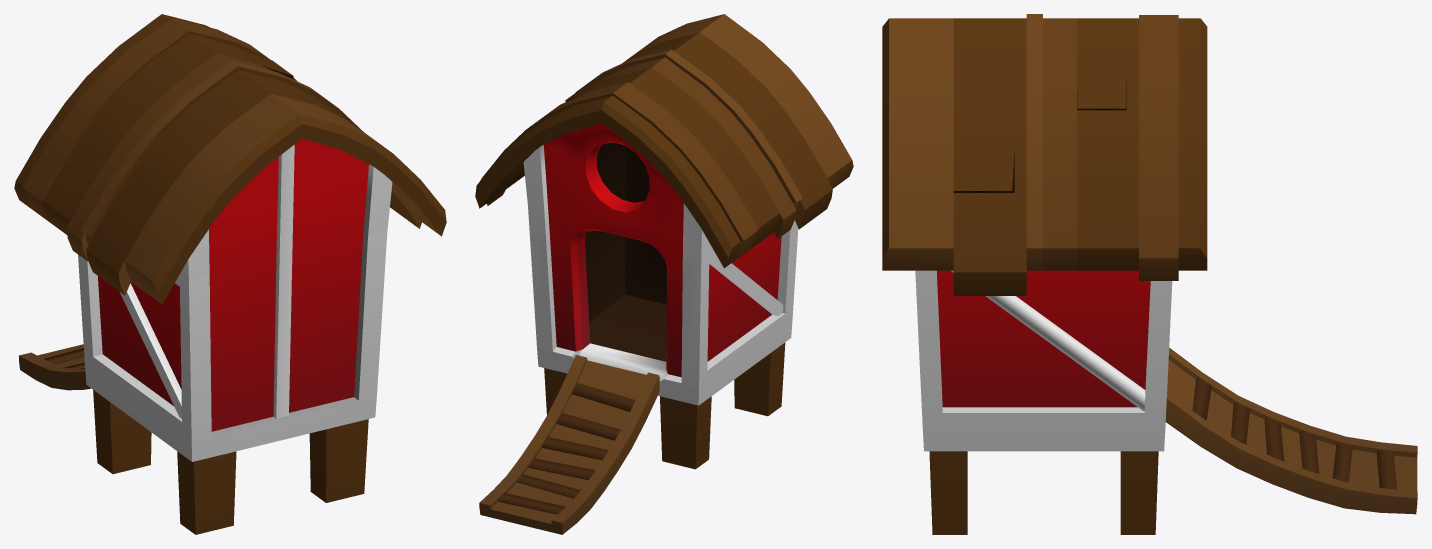
File: Gallinero.fbx
The picture shows the model from 3 angles, left to right: view 1: azimuth 30°, elevation 25°; view 2: azimuth 150°, elevation 25°; view 3: azimuth 270°, elevation 25°; orthographic projection. The views are drawn at different scales.
Parts seen in each view (by area): view 1: Gallinero; view 2: Gallinero; view 3: Gallinero.
Part boxes in pixels (bbox=[...]): Gallinero: bbox=[14, 14, 446, 534]; Gallinero: bbox=[475, 14, 853, 534]; Gallinero: bbox=[882, 14, 1417, 534].
Size of the model in its own units: 1.8 by 2.39 by 2.34.
